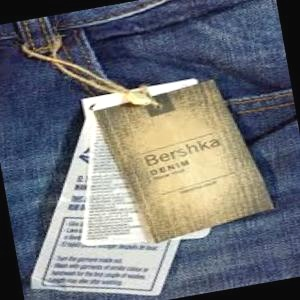bershka: (72, 84, 300, 206)
